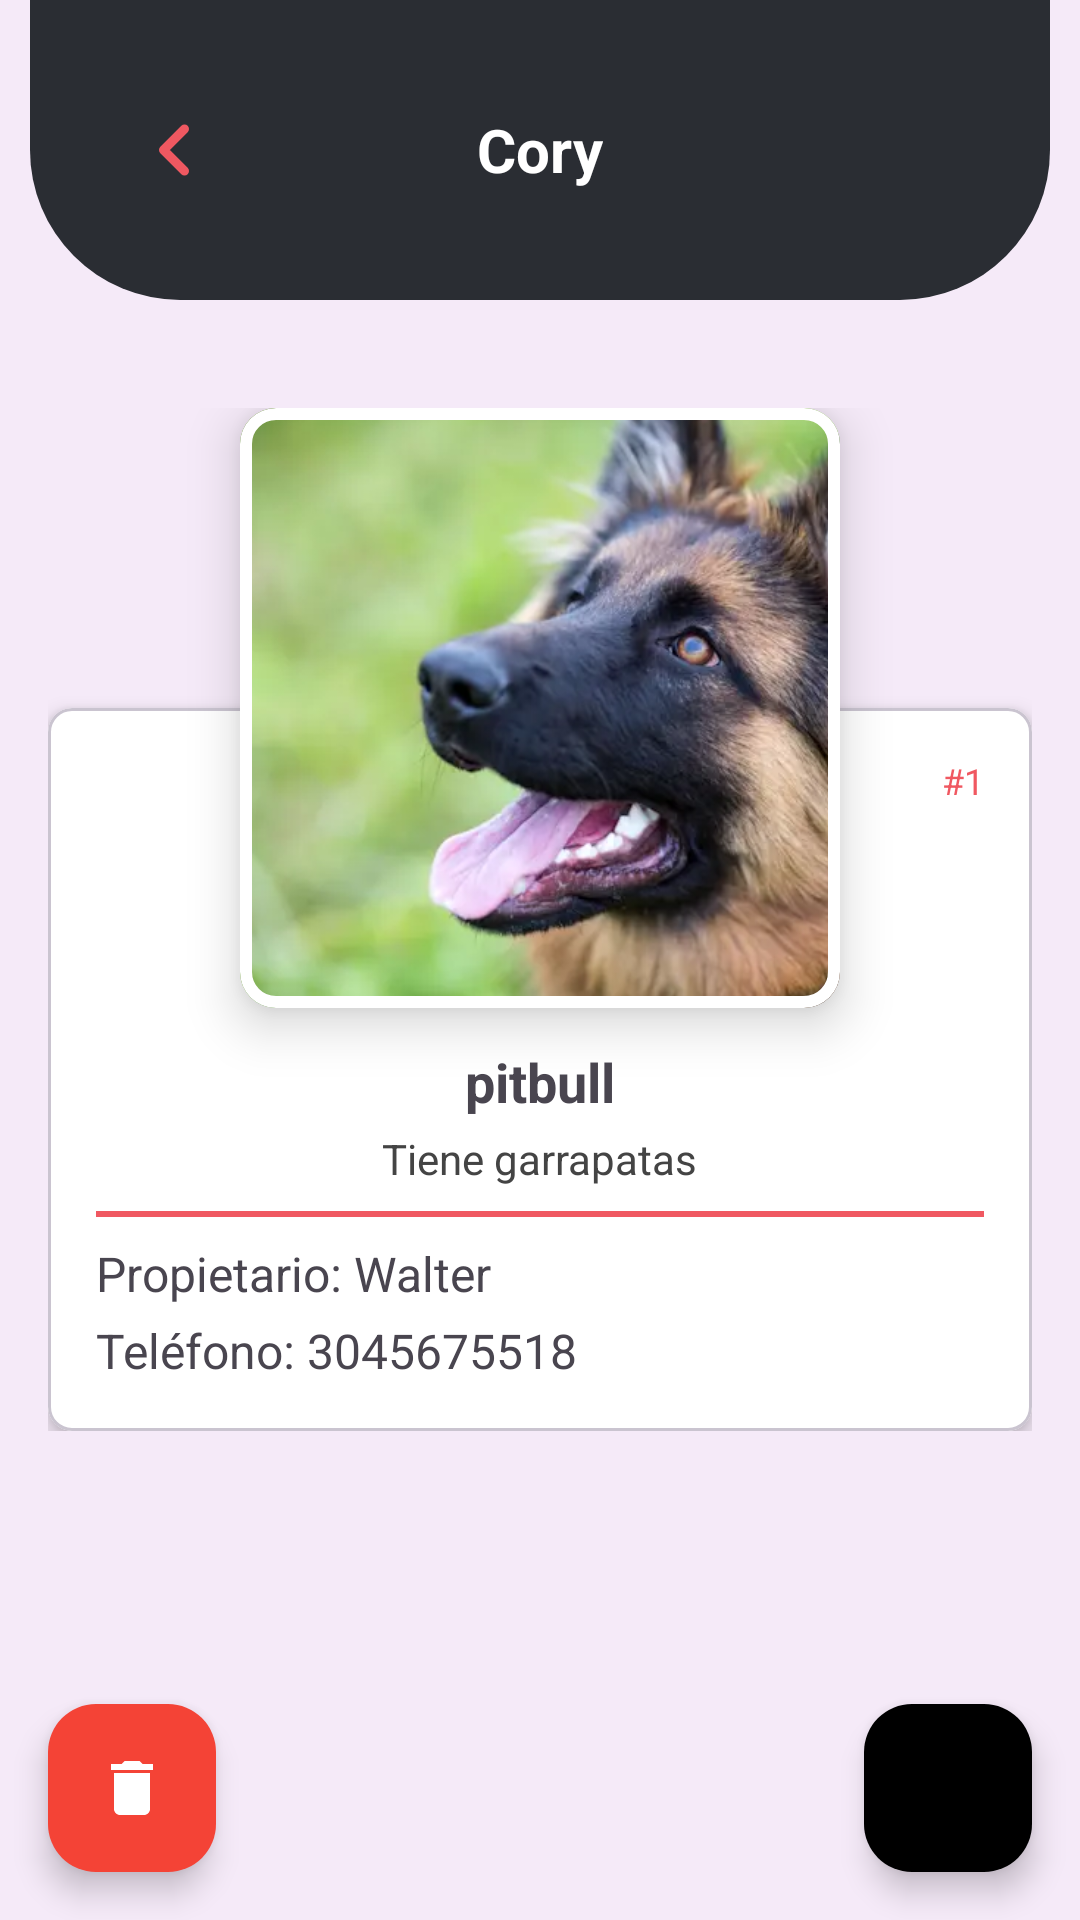

Icon click points for this 1080px×1920px phone screenshot, format (x=x, y=y):
Eliminar: (x=132, y=1788)
Volver: (x=174, y=150)
